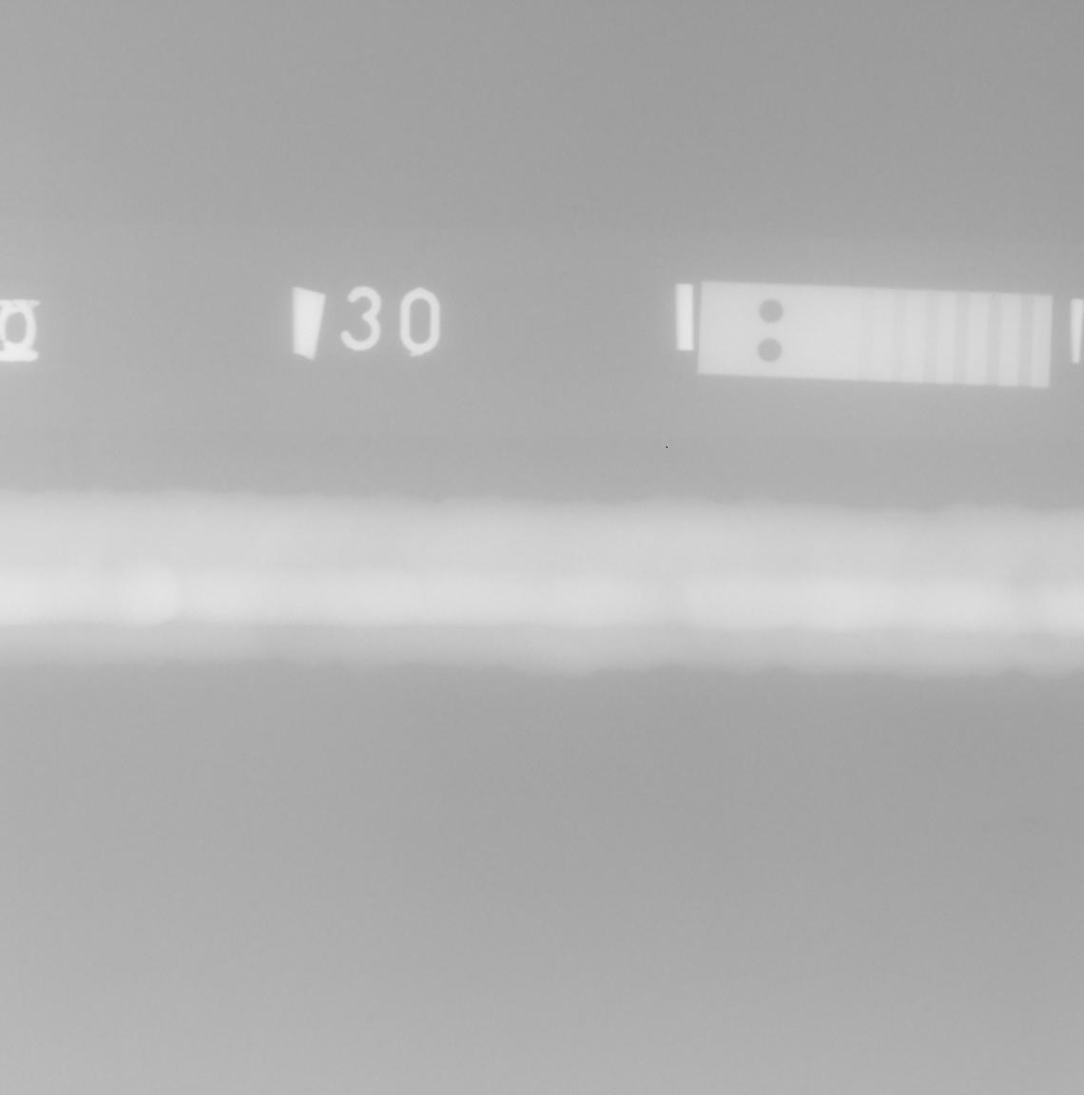Reference Standard 2: (696, 281, 1052, 389)
